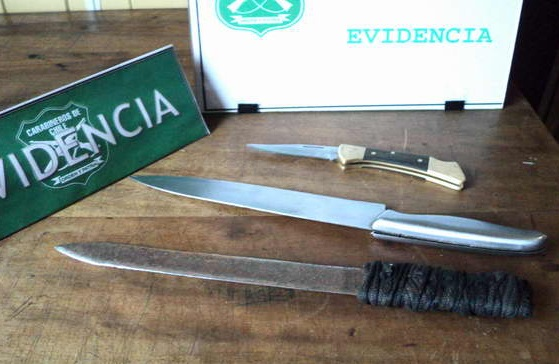knife: (48, 233, 365, 311), (125, 171, 388, 243), (241, 137, 352, 172)
